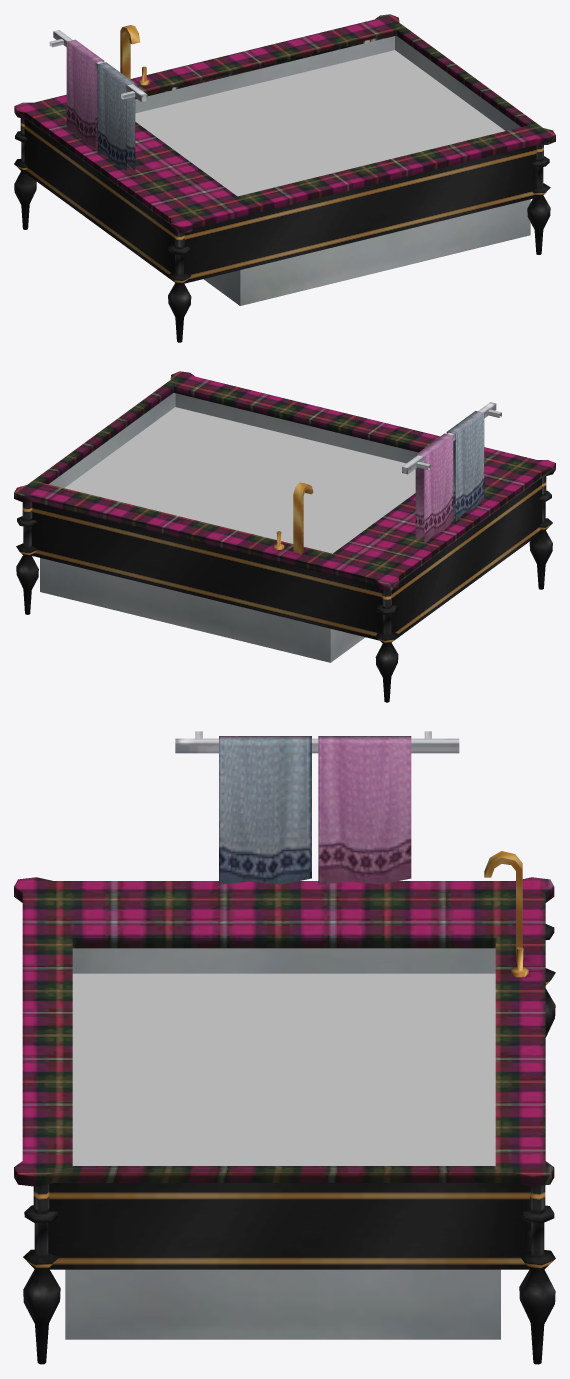
File: furni_0200325_01.FBX
The picture shows the model from 3 angles, top to bottom: view 1: azimuth 30°, elevation 25°; view 2: azimuth 150°, elevation 25°; view 3: azimuth 270°, elevation 25°; orthographic projection. The views are drawn at different scales.
Visible parts, largest first — view 1: furni_0200325_01; view 2: furni_0200325_01; view 3: furni_0200325_01.
Part boxes in pixels (x1=…): furni_0200325_01: x1=14, y1=14, x2=555, y2=342; furni_0200325_01: x1=14, y1=371, x2=555, y2=702; furni_0200325_01: x1=14, y1=731, x2=555, y2=1364.
Bounding box in the file's own units: 160 × 86.2 × 122.
